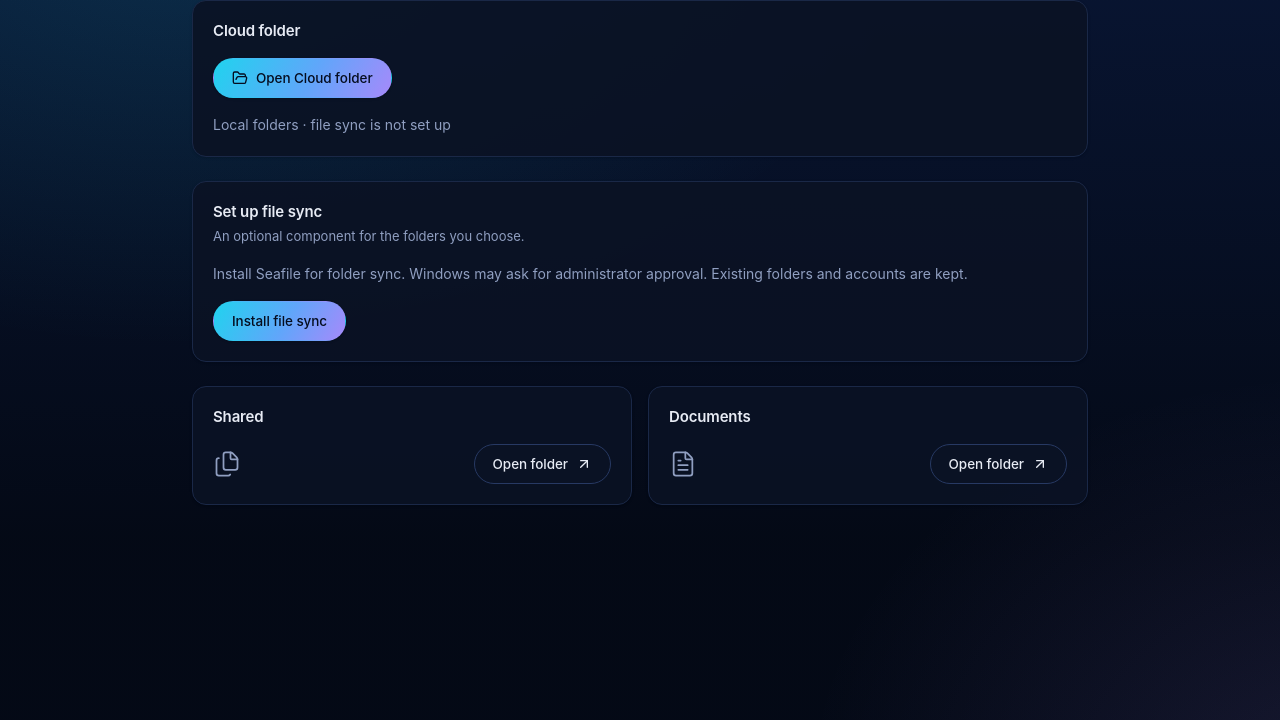
Test: Cloud onboarding › installs the optional component only after a deliberate action
Click the button "Install file sync" at [280, 321], box x1=213 y1=301 x2=346 y2=341
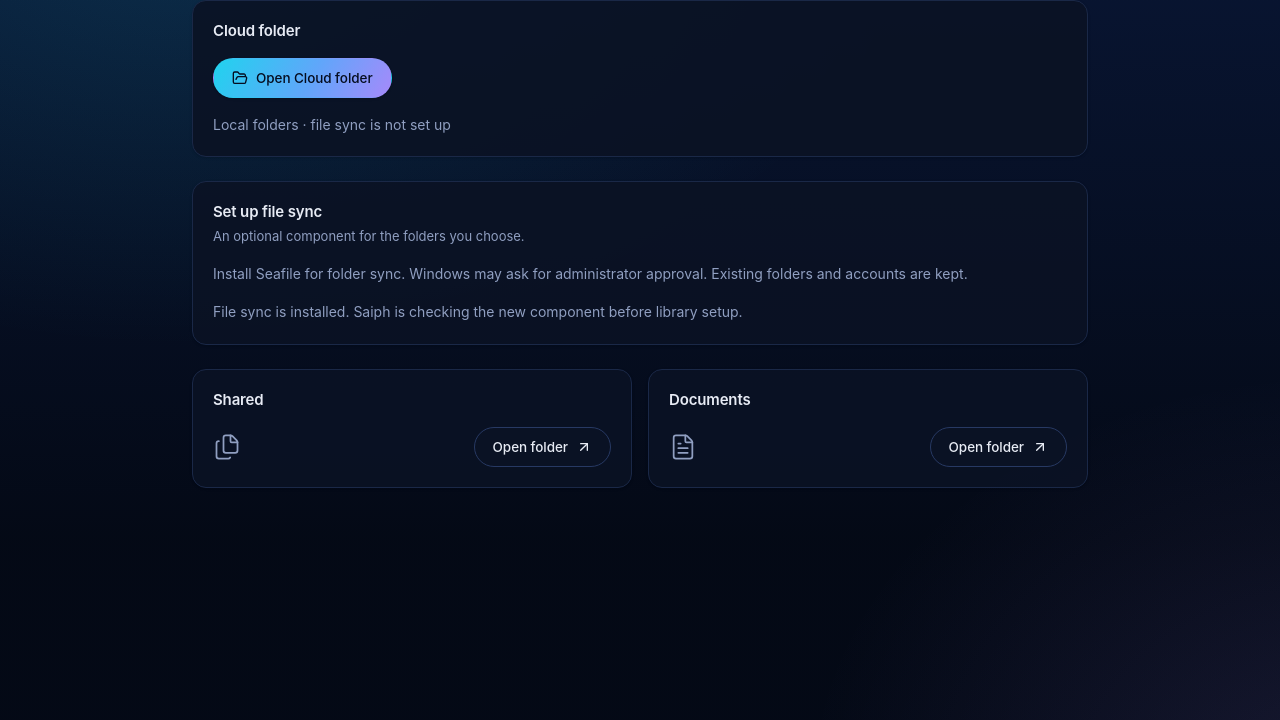
Expected: the text "File sync is installed" is shown, x1=213 y1=303 x2=743 y2=320
